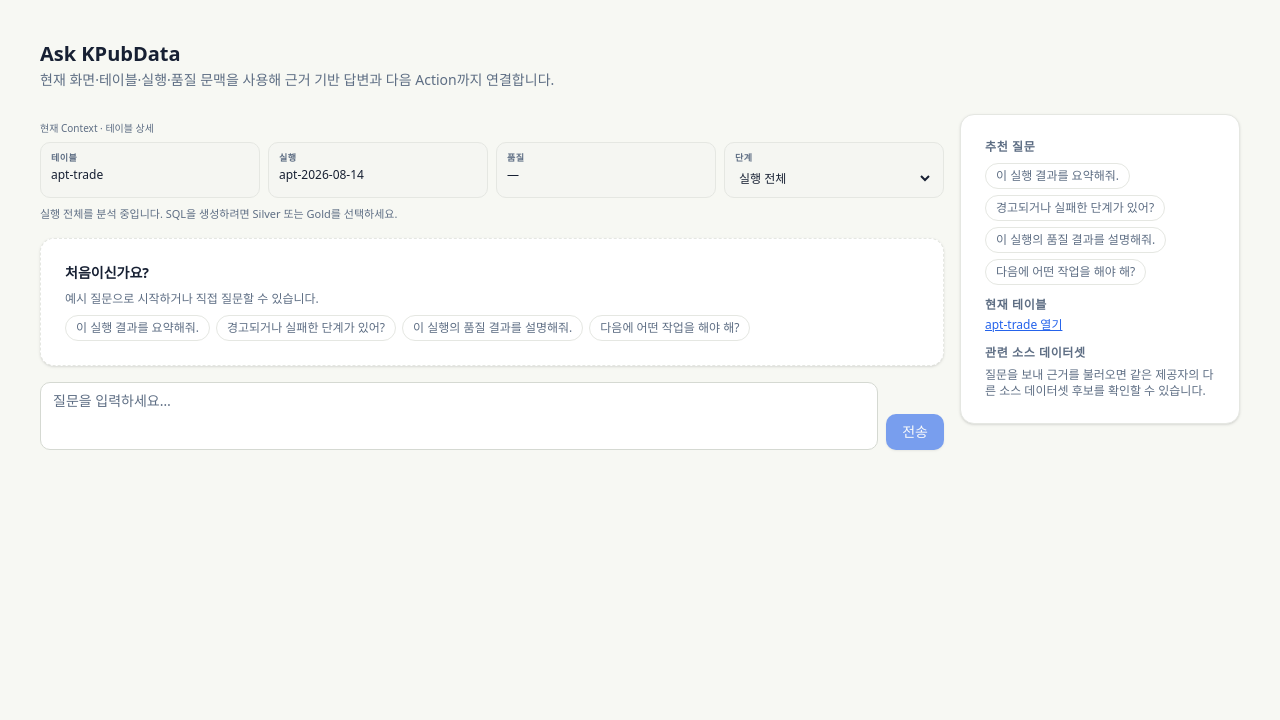
it: Ask KPubData PATCH_BUILDSPEC badge (#Phase2 UI polish) › shows the 'BuildSpec 변경 제안' badge only on the PATCH_BUILDSPEC action card
In the text box named "Ask KPubData 에 질문하기": (459, 416) [40,382,878,450], type "이 run에 대해 알려줘"
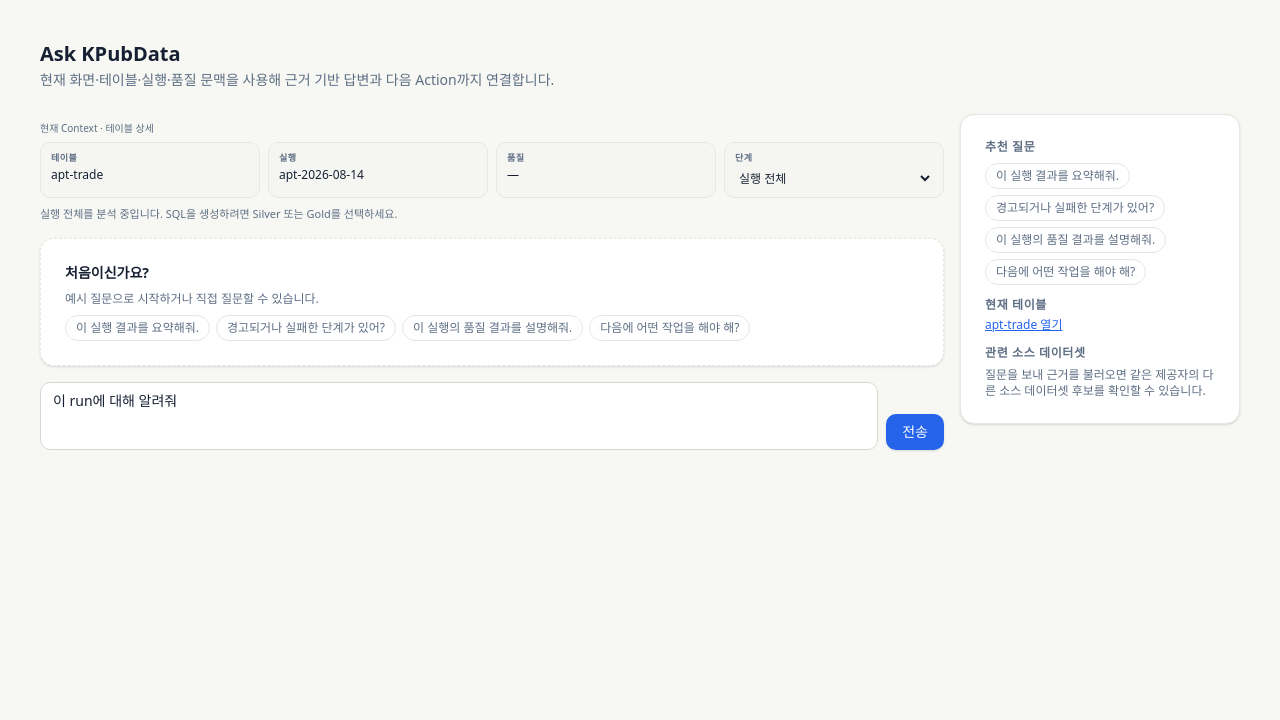
Submit the form named "Ask KPubData 에 질문하기", box [40,382,944,450]
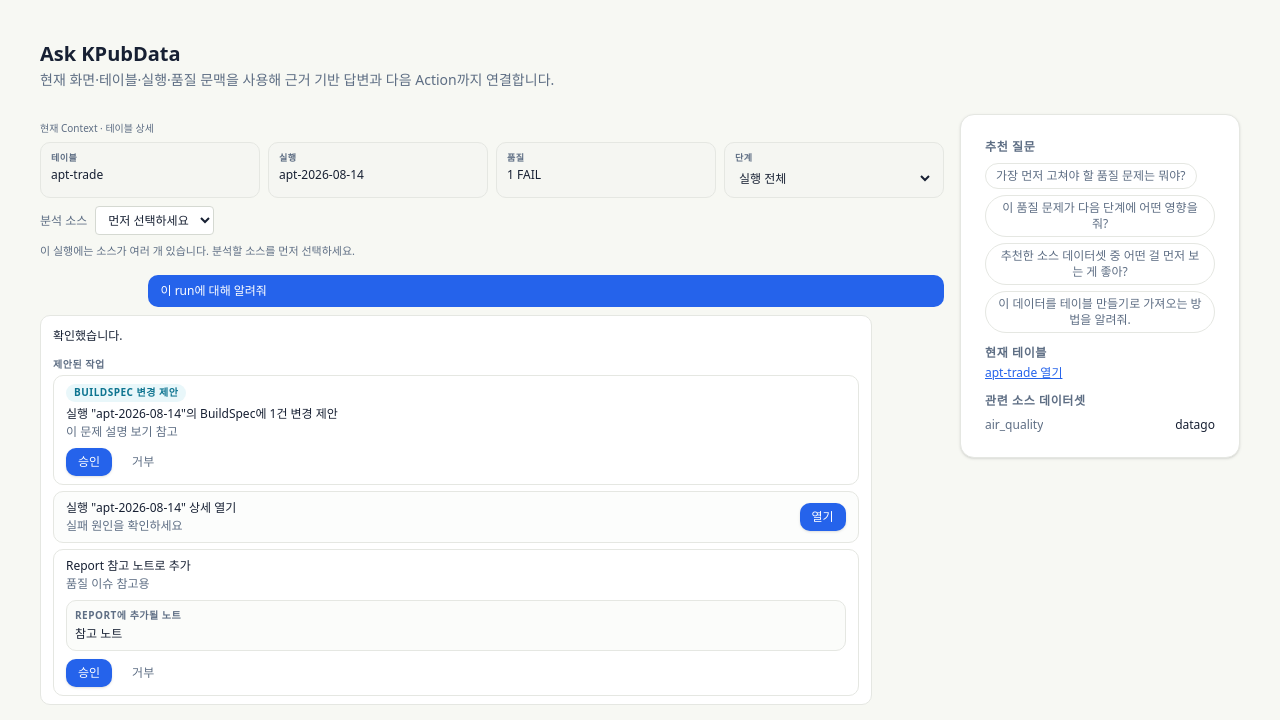
Expected: the number of buttons "승인" is 3, [66,448,112,476]; [800,503,846,531]; [66,659,112,687]
Expected: the text "BuildSpec 변경 제안" is shown once, [66,384,186,402]
